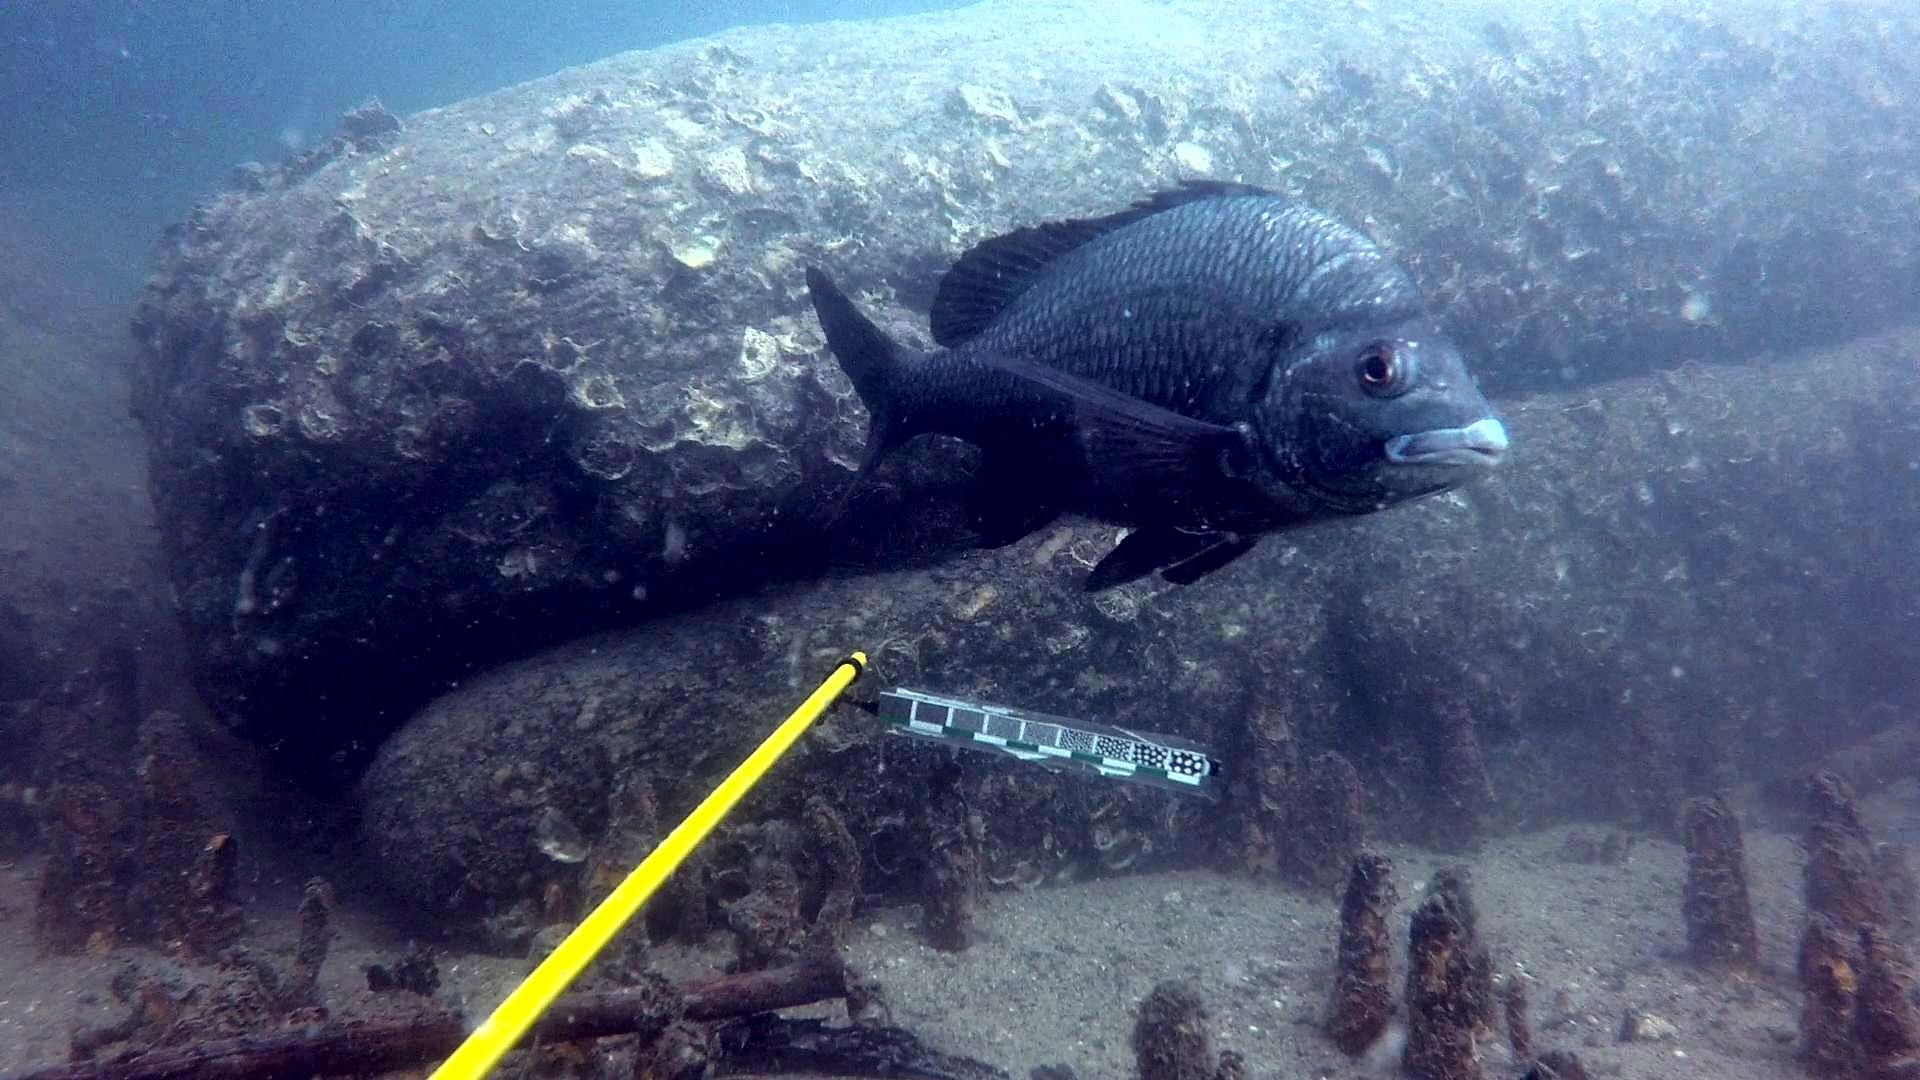acanthopagrus palmaris: (795, 168, 1524, 609)
